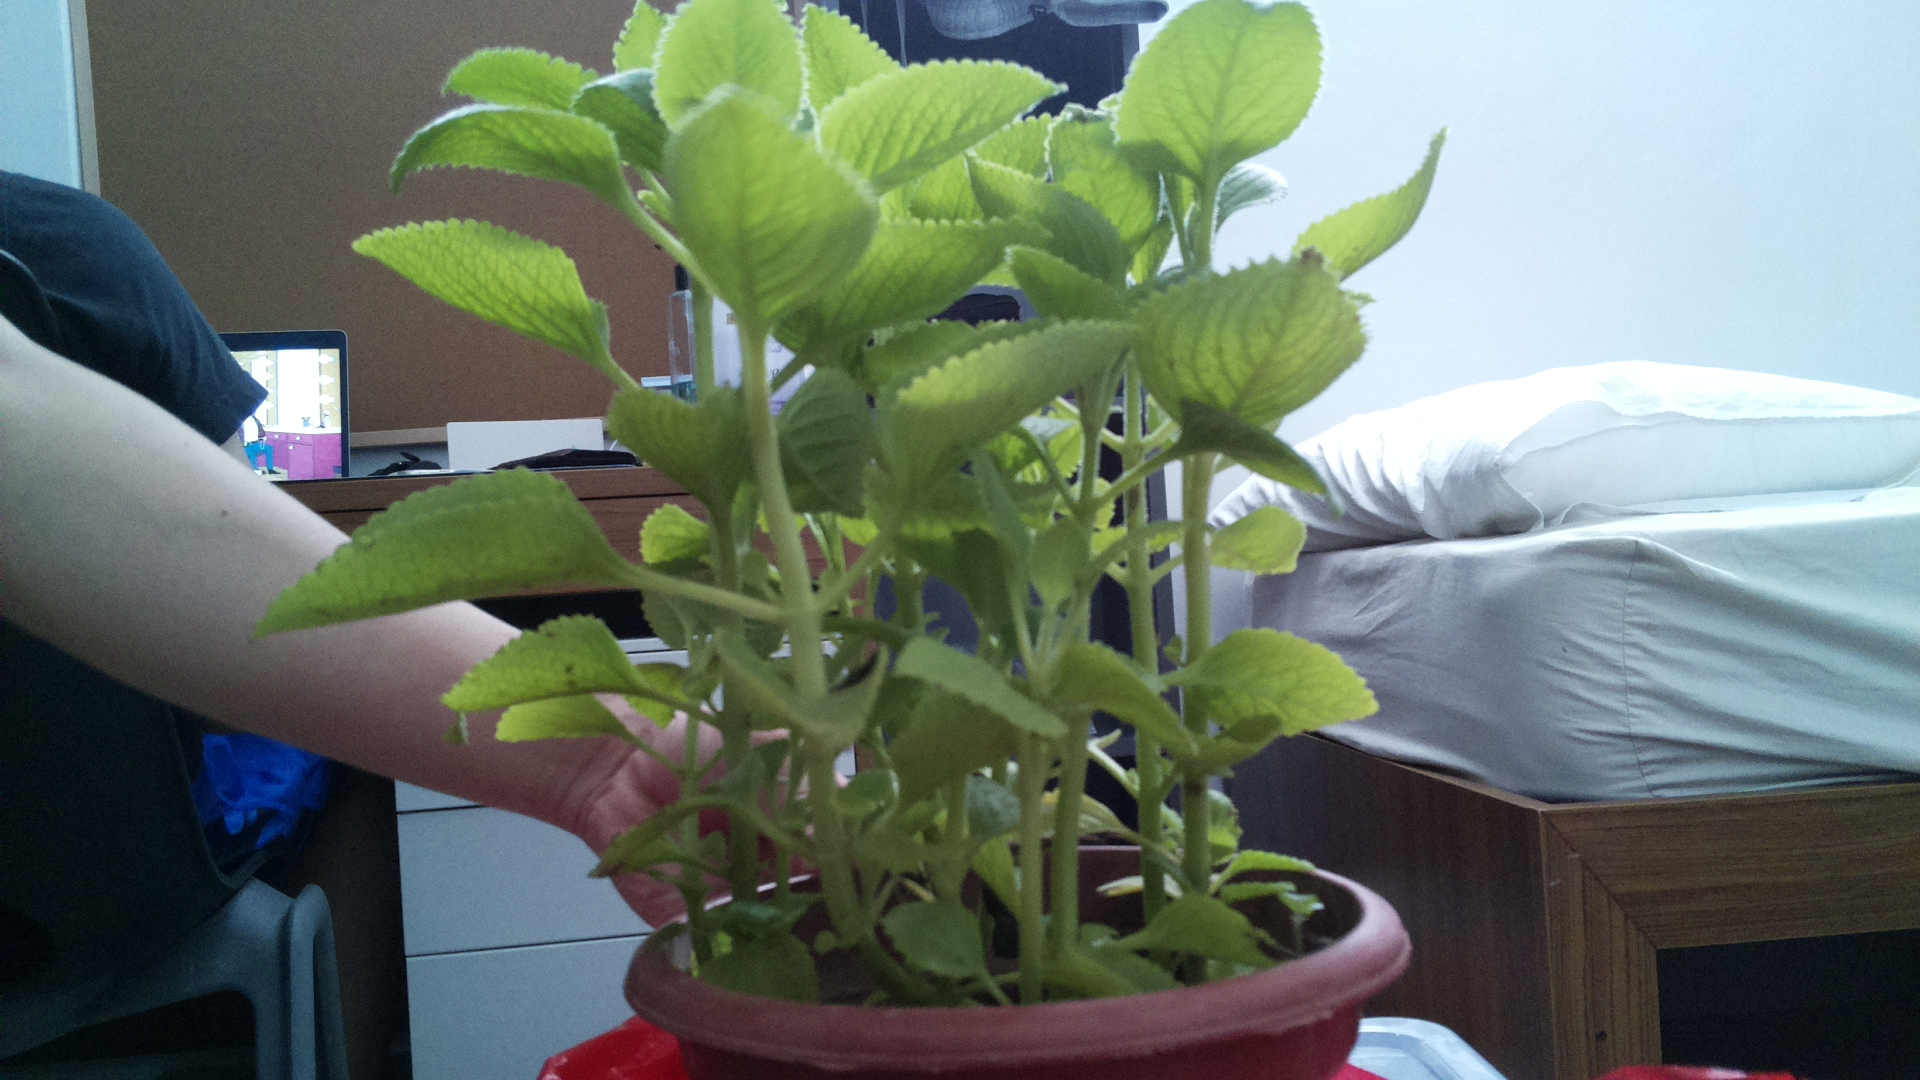leaf: (244, 447, 618, 651), (661, 74, 876, 330), (876, 295, 1153, 483), (1127, 258, 1371, 426), (351, 227, 625, 367), (1125, 7, 1321, 193), (827, 38, 1081, 177), (382, 88, 644, 200), (1283, 123, 1468, 272), (1178, 609, 1393, 737), (708, 626, 895, 756), (444, 615, 626, 717)
